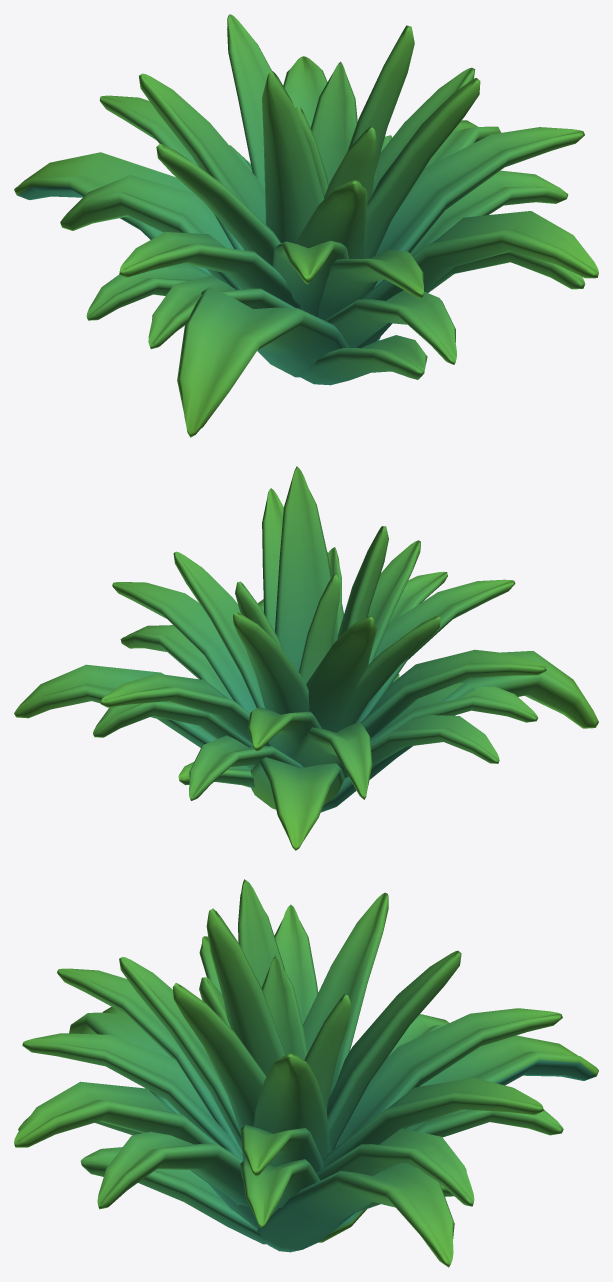
Rendered from plant_small_3.gltf.
The picture shows the model from 3 angles, top to bottom: view 1: azimuth 30°, elevation 25°; view 2: azimuth 150°, elevation 25°; view 3: azimuth 270°, elevation 25°; orthographic projection. The views are drawn at different scales.
Parts seen in each view (by area): view 1: succulentA; view 2: succulentA; view 3: succulentA.
Boxes of the visible parts, x1,y1,x2,y2 form: succulentA: (14, 14, 598, 437); succulentA: (14, 466, 598, 850); succulentA: (14, 879, 598, 1267).
Bounding box in the file's own units: 0.2849 × 0.1969 × 0.29.
Materials: 1 (1 with a texture image).
